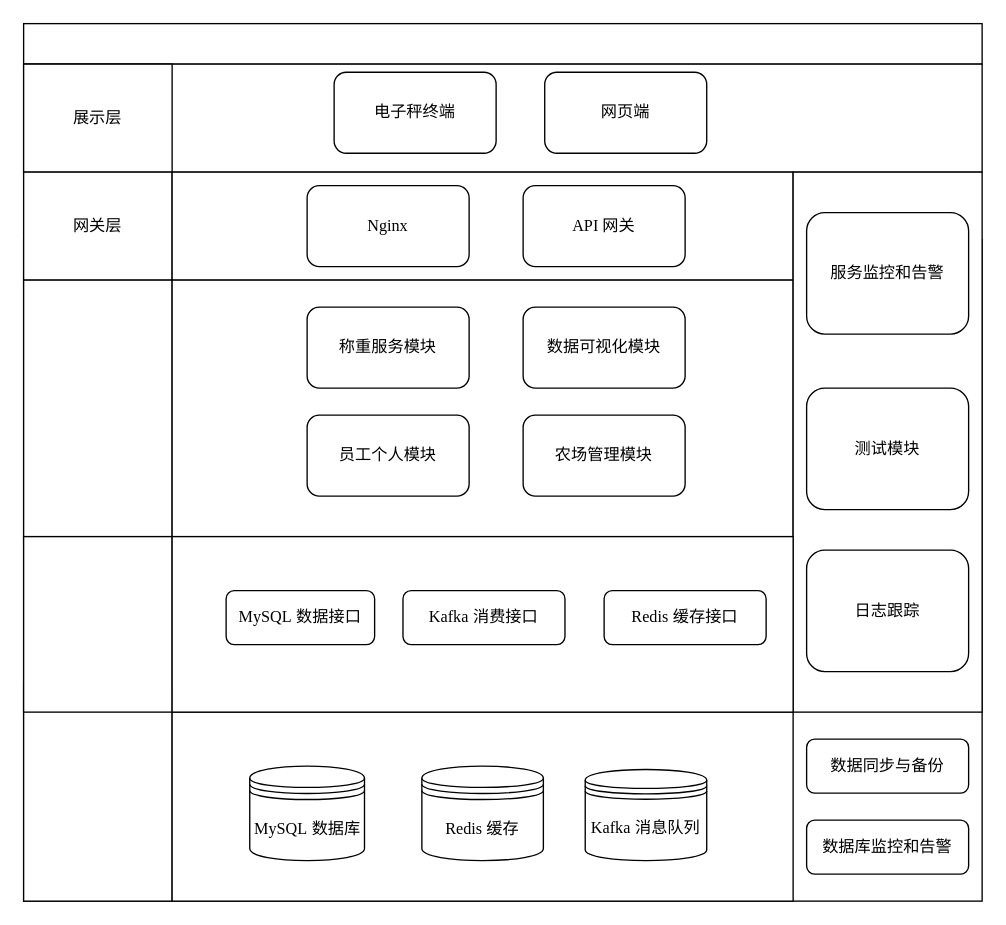
This 1006x925 diagram has some shape labels left out. Each missing label, with the centre of its shape:
业务层: [97,408]
农业果实称重云端软件架构图: [502,43]
持久层: [97,623]
数据库层: [97,792]
